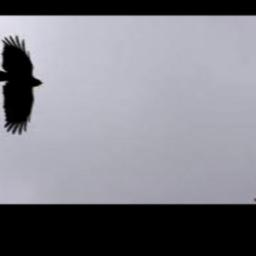Crow: (0, 35, 41, 136)
